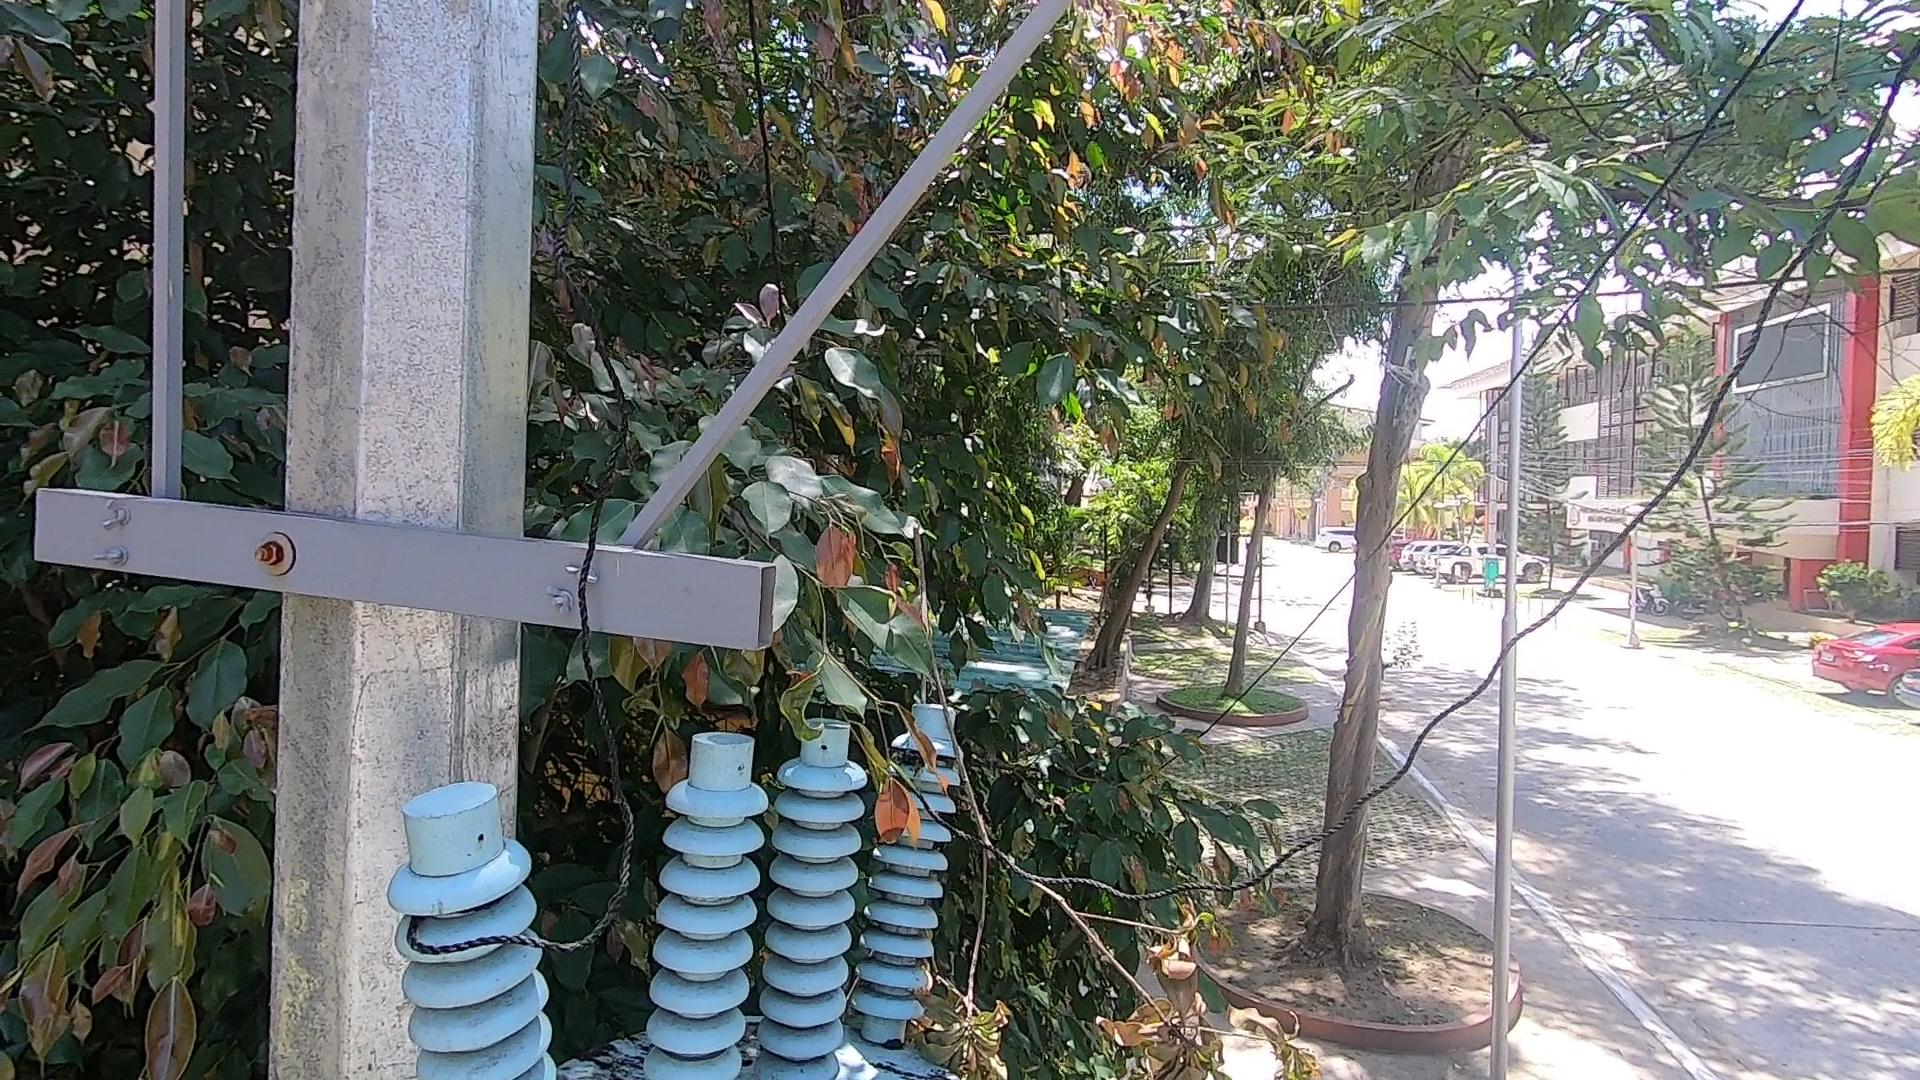branch with leaves: (886, 489, 1331, 1080)
